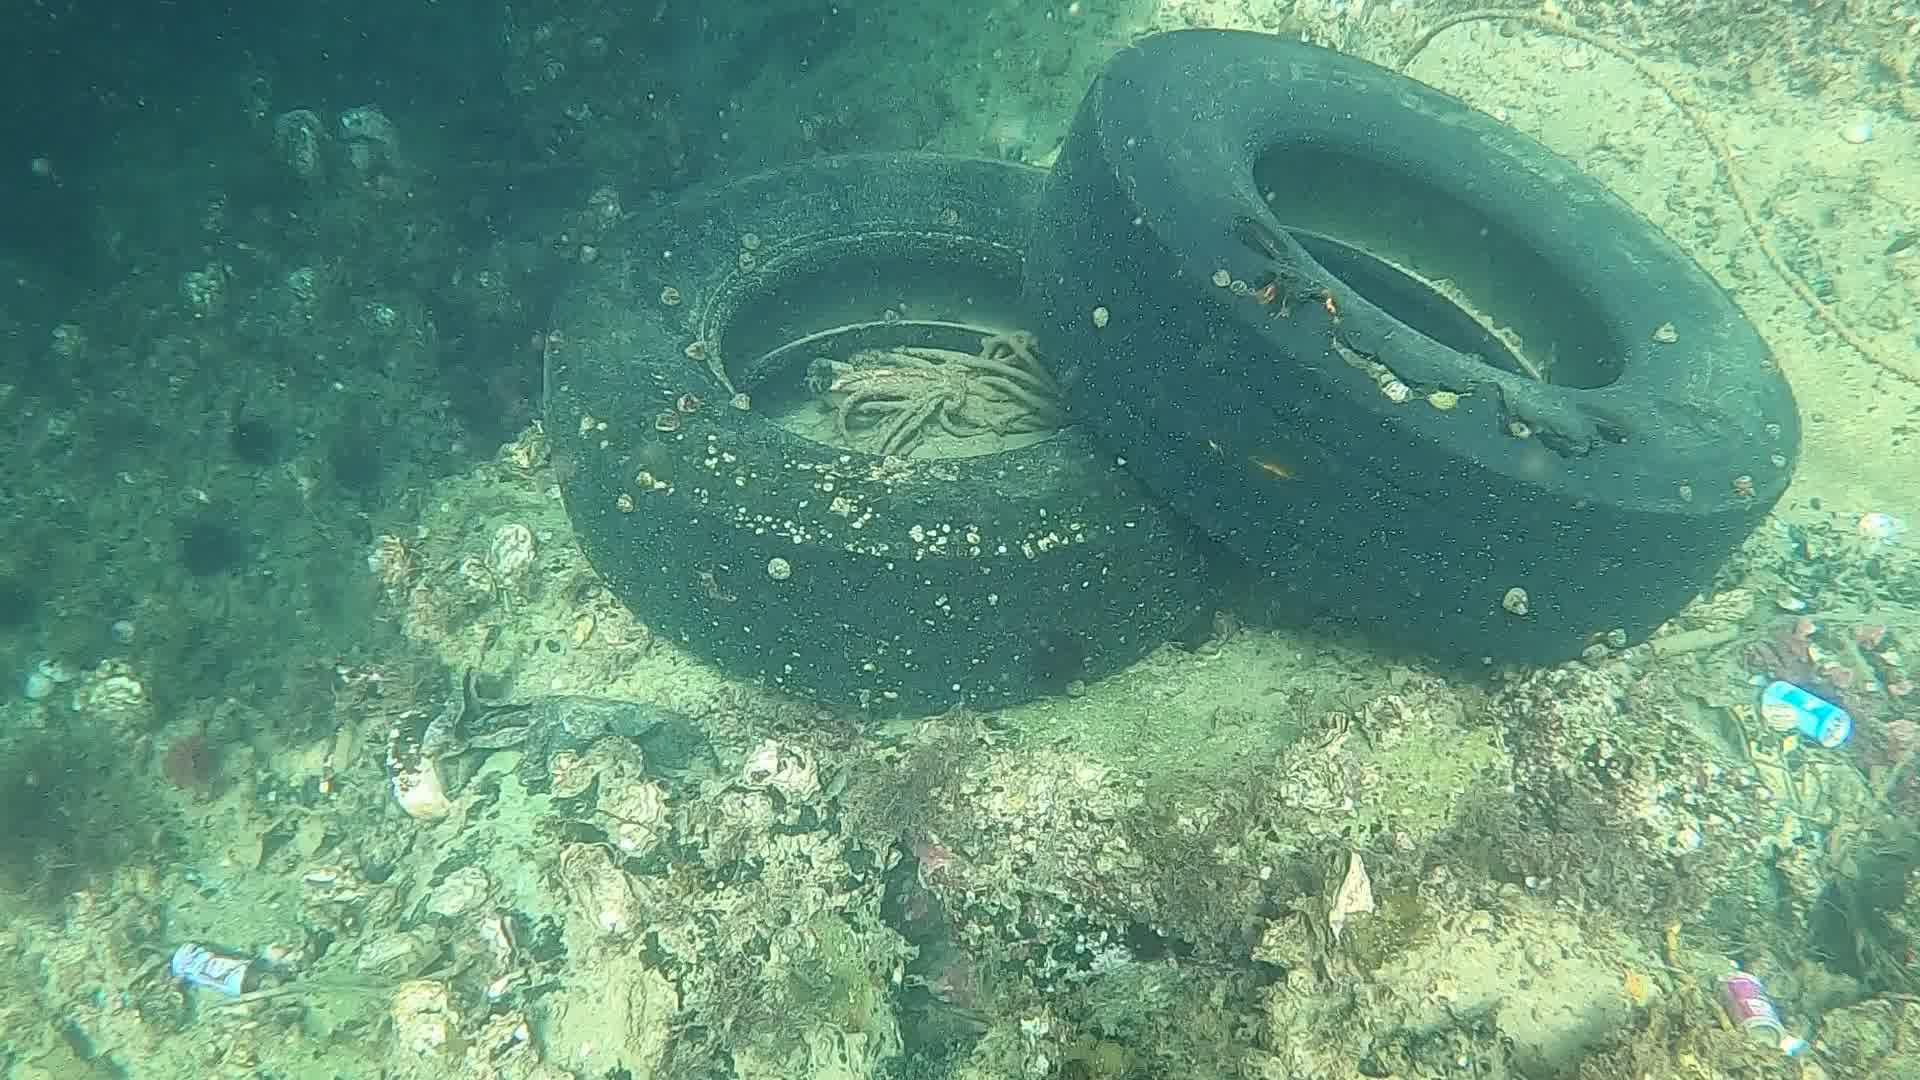bundle of ropes: (806, 328, 1036, 455)
rope: (1396, 8, 1920, 390)
tire: (1025, 26, 1800, 667), (535, 145, 1218, 716)
